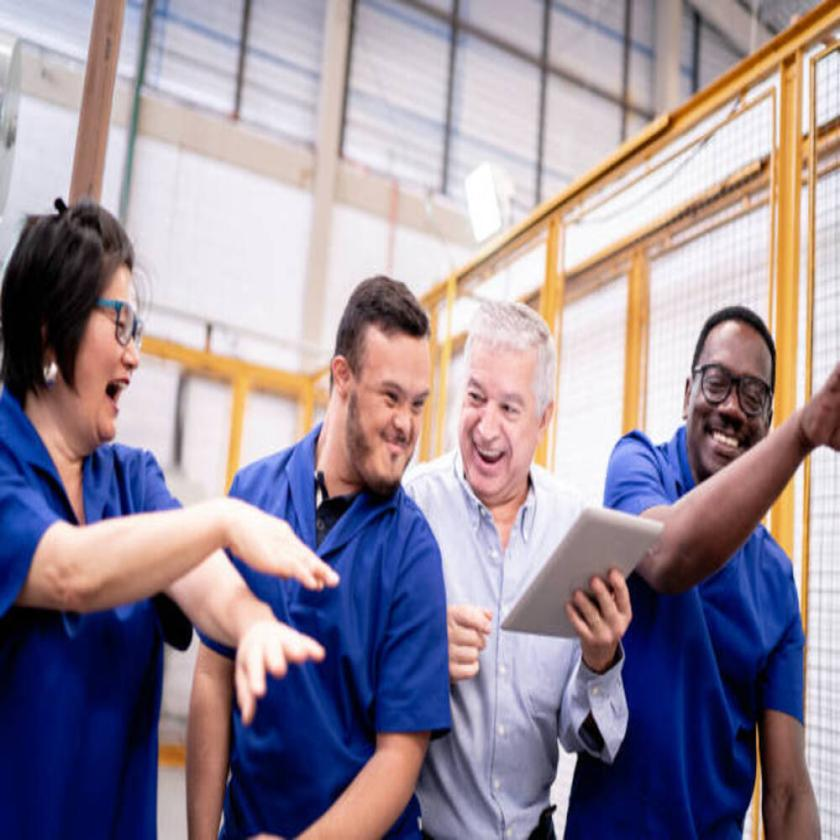Sin_casco: (0, 199, 148, 470), (318, 272, 437, 529), (454, 296, 560, 524), (680, 304, 782, 507)
